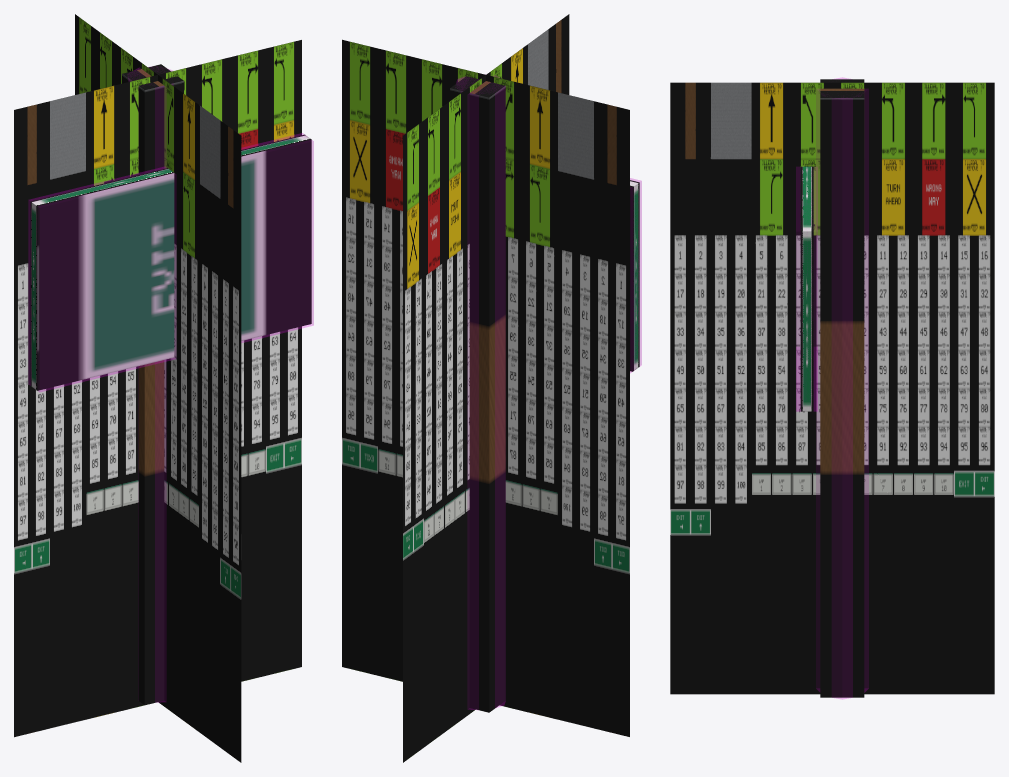
File: exit.dae
3 renders of one model, left to right at view 1: azimuth 30°, elevation 25°; view 2: azimuth 150°, elevation 25°; view 3: azimuth 270°, elevation 25°, orthographic. The views are drawn at different scales.
Parts seen in each view (by area): view 1: exit_a50, exit_a800, Colmesh_sign-1, exit_a200, Colmesh_post-1; view 2: exit_a50, exit_a800, Colmesh_post-1, exit_a200, Colmesh_sign-1; view 3: exit_a50, exit_a800, Colmesh_post-1, Colmesh_sign-1.
Part boxes in pixels (x1=…): exit_a50: x1=14, y1=14, x2=301, y2=762; exit_a800: x1=30, y1=64, x2=311, y2=704; Colmesh_sign-1: x1=28, y1=133, x2=313, y2=391; exit_a200: x1=138, y1=69, x2=181, y2=701; Colmesh_post-1: x1=128, y1=68, x2=172, y2=702; exit_a50: x1=342, y1=14, x2=629, y2=762; exit_a800: x1=450, y1=76, x2=639, y2=712; Colmesh_post-1: x1=456, y1=75, x2=505, y2=709; exit_a200: x1=464, y1=77, x2=505, y2=707; Colmesh_sign-1: x1=630, y1=178, x2=641, y2=372; exit_a50: x1=670, y1=82, x2=994, y2=694; exit_a800: x1=800, y1=79, x2=864, y2=697; Colmesh_post-1: x1=816, y1=77, x2=868, y2=699; Colmesh_sign-1: x1=796, y1=167, x2=817, y2=411.
Bounding box in the file's own units: 0.735 × 0.735 × 1.53.
Materials: 2 (1 with a texture image).
